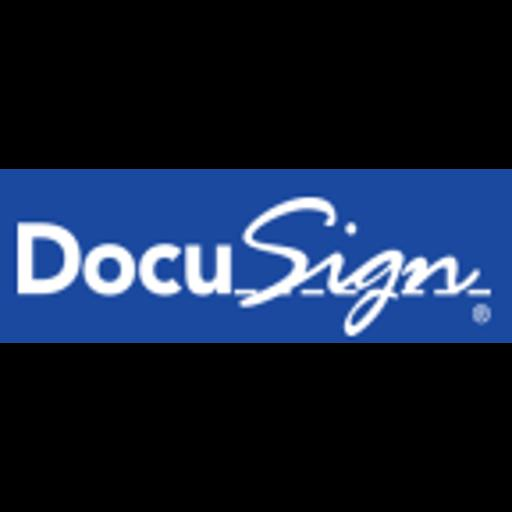DocuSign: (0, 169, 512, 343)
